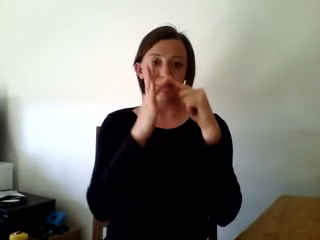E: (119, 53, 233, 151)
